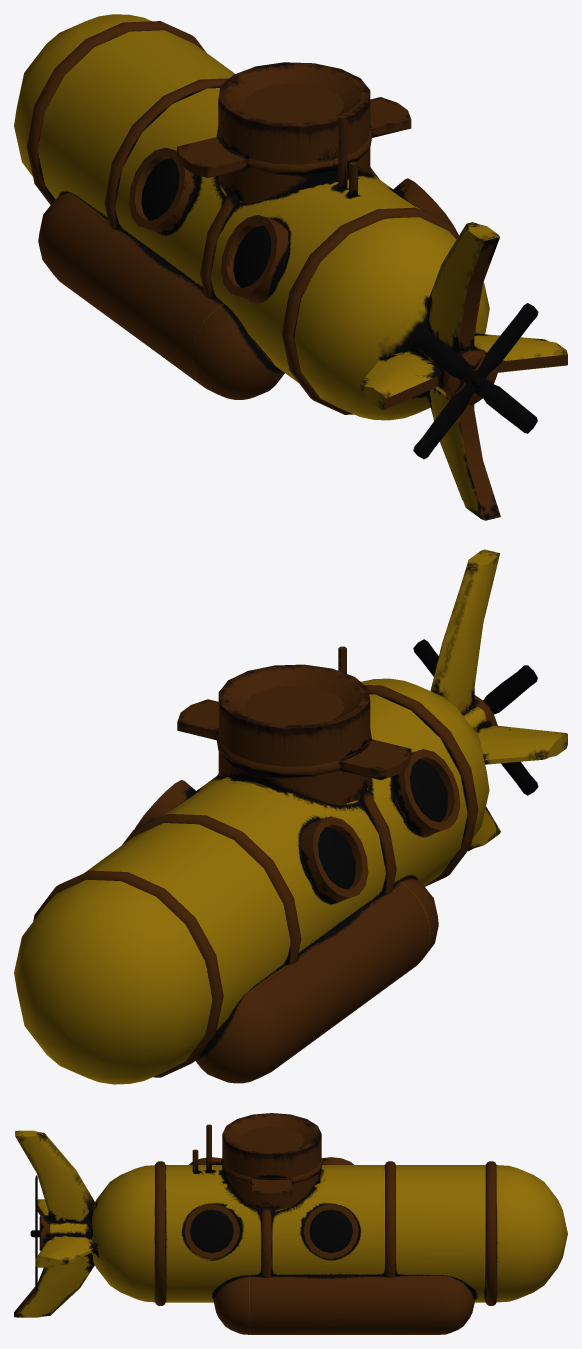
The model's file is submarine.glb.
3 renders of one model, top to bottom at view 1: azimuth 30°, elevation 25°; view 2: azimuth 150°, elevation 25°; view 3: azimuth 270°, elevation 25°, orthographic. The views are drawn at different scales.
Visible parts, largest first — view 1: Submarine_LP; view 2: Submarine_LP; view 3: Submarine_LP.
Boxes of the visible parts, x1,y1,x2,y2 form: Submarine_LP: (14, 14, 567, 520); Submarine_LP: (14, 549, 567, 1084); Submarine_LP: (14, 1113, 567, 1334).
Bounding box in the file's own units: 260 × 304 × 805.
1 material, 1 textured.
